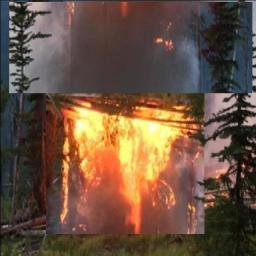Low smoke: (10, 5, 111, 86)
Medium fire: (41, 91, 207, 235)
